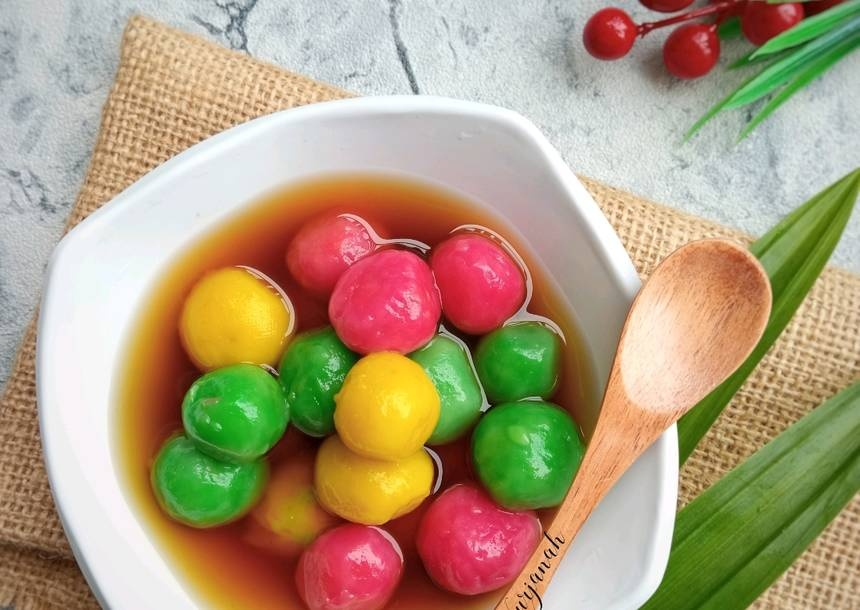ronde: (105, 196, 587, 603)
